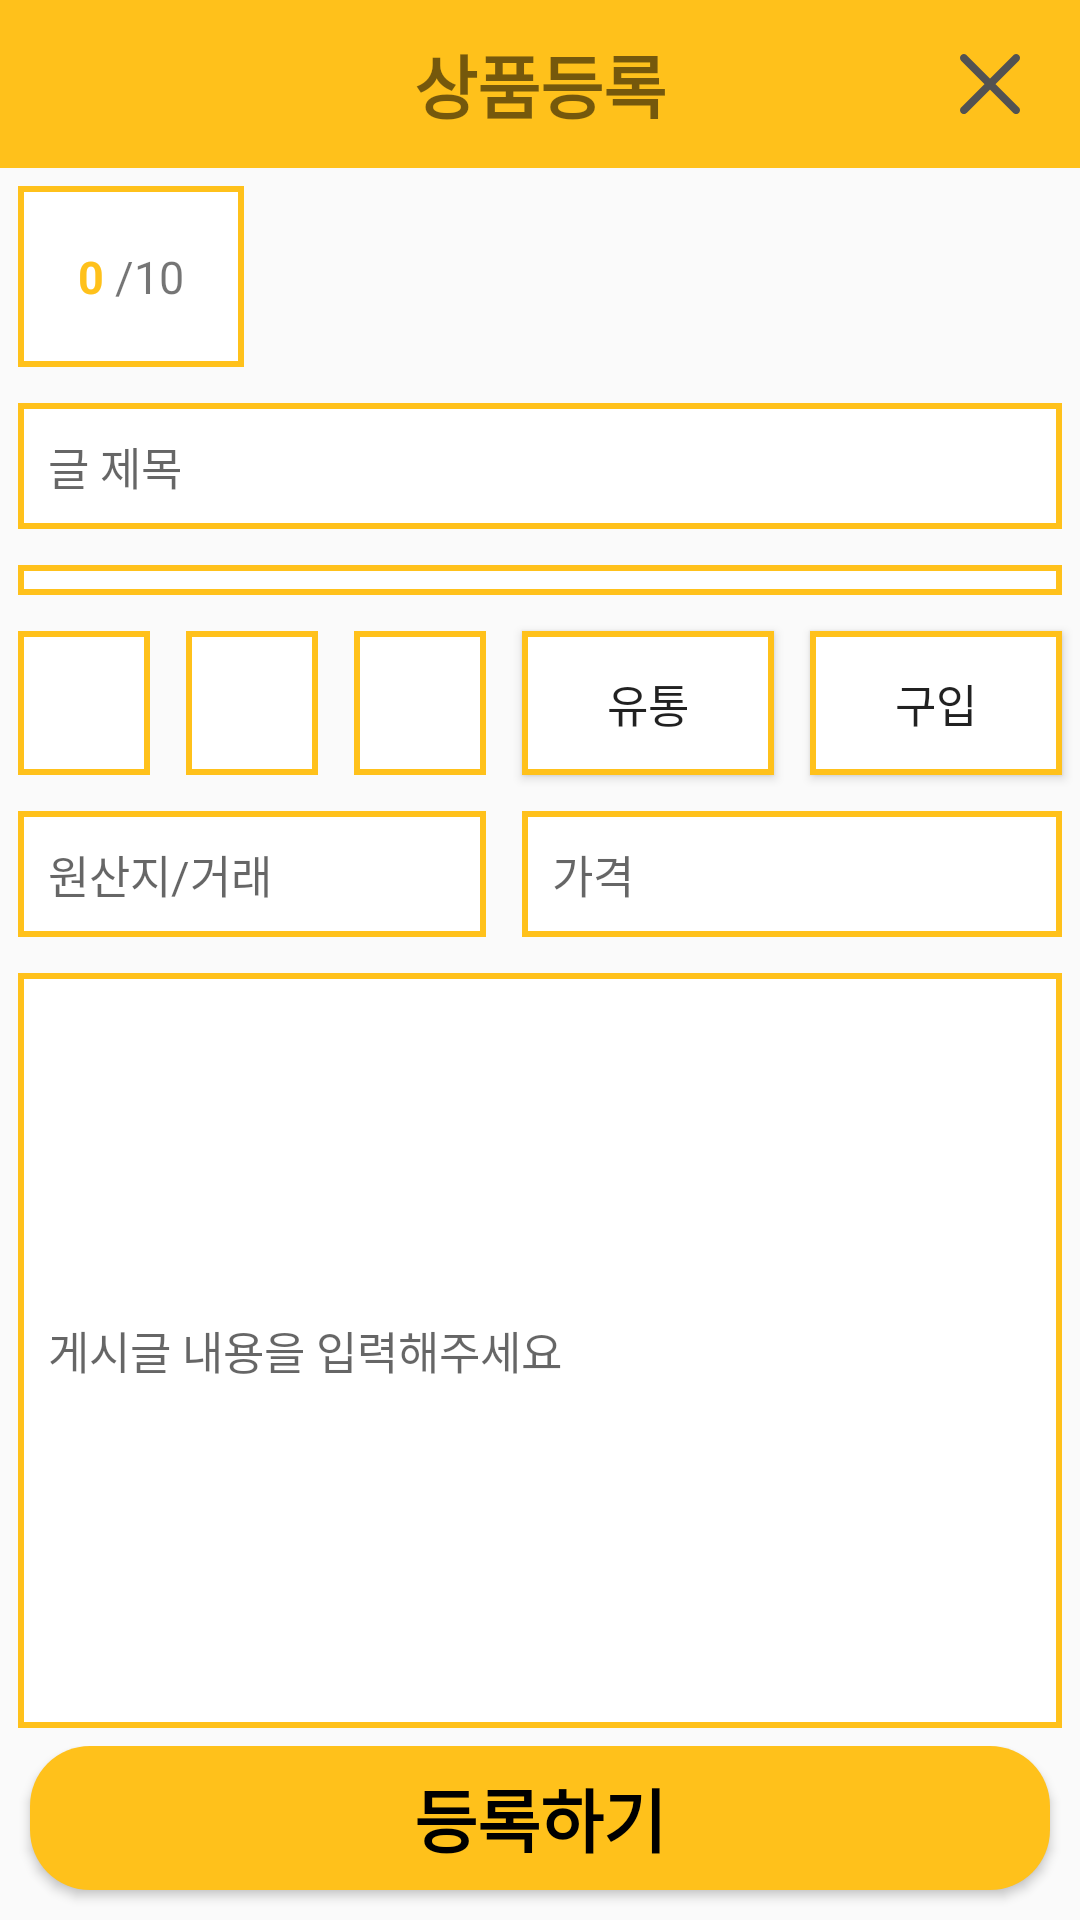

Where icons sit on this 1080*1920 app screen, as (x1, y1, x2, y2):
close: (960, 54, 1020, 114)
